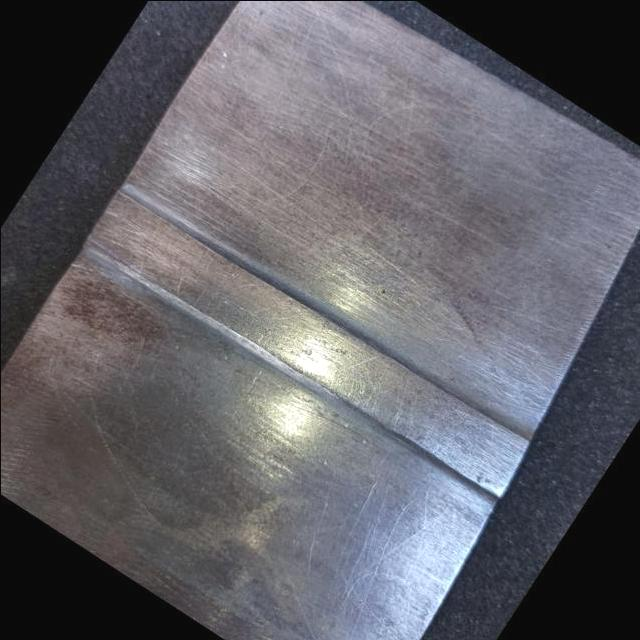defect: (218, 293, 369, 384)
